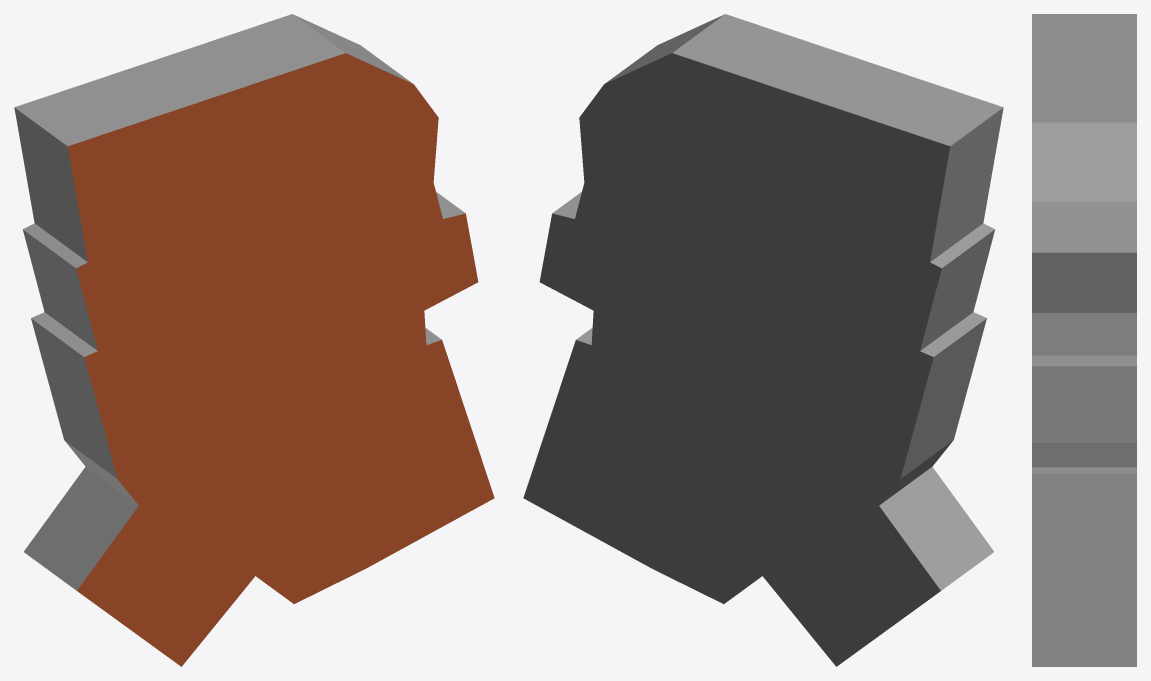
Rendered from construction_2992_assumed_A_Casa_h6m.obj.
The picture shows the model from 3 angles, left to right: view 1: azimuth 30°, elevation 25°; view 2: azimuth 150°, elevation 25°; view 3: azimuth 270°, elevation 25°; orthographic projection.
Visible parts, largest first — view 1: construction_2992_assumed_A_Casa; view 2: construction_2992_assumed_A_Casa; view 3: construction_2992_assumed_A_Casa.
Boxes of the visible parts, x1,y1,x2,y2 form: construction_2992_assumed_A_Casa: [14, 14, 494, 666]; construction_2992_assumed_A_Casa: [523, 14, 1003, 666]; construction_2992_assumed_A_Casa: [1032, 14, 1136, 666].
Size of the model in its own units: 27.72 by 35.59 by 6.
